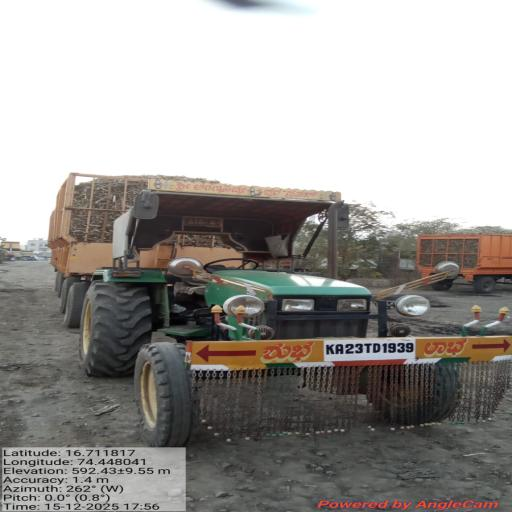number_plate: (313, 339, 432, 361)
